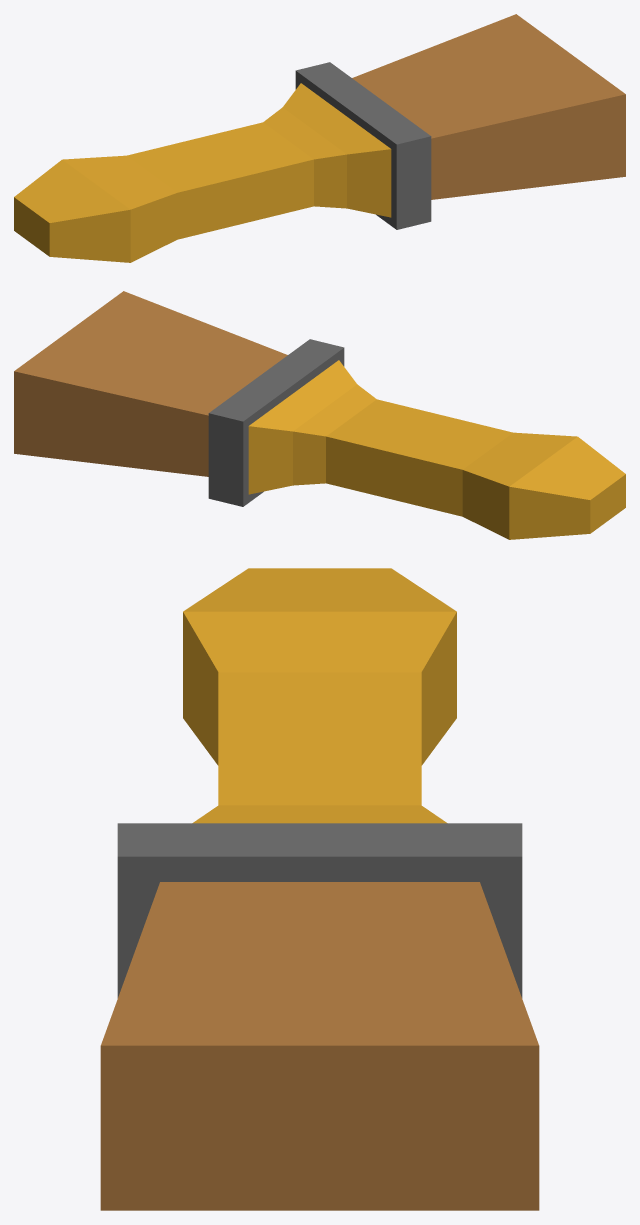
3 renders of one model, top to bottom at view 1: azimuth 30°, elevation 25°; view 2: azimuth 150°, elevation 25°; view 3: azimuth 270°, elevation 25°, orthographic. The views are drawn at different scales.
Visible parts, largest first — view 1: F-1; view 2: F-1; view 3: F-1.
Boxes of the visible parts, x1,y1,x2,y2 form: F-1: (14,14,625,262); F-1: (14,291,625,539); F-1: (100,568,539,1210).
Bounding box in the file's own units: 55.01 × 8.33 × 19.37.
